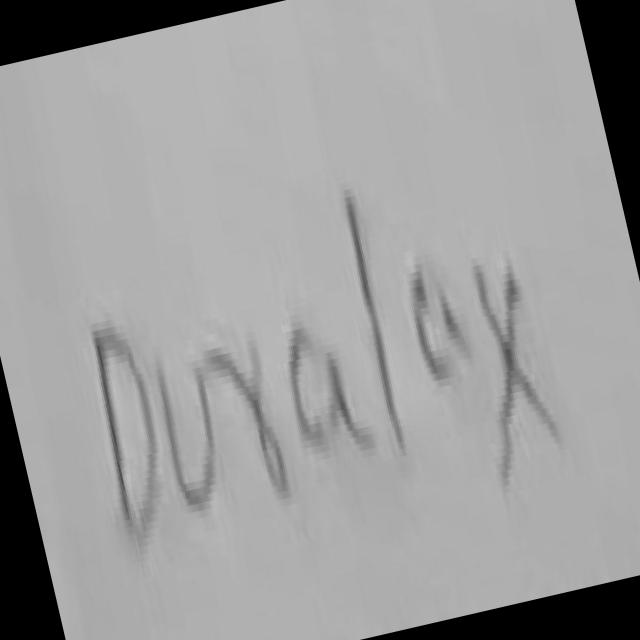D: (94, 327, 160, 534)
a: (292, 327, 375, 459), (412, 264, 470, 380)
l: (351, 196, 405, 444)
r: (205, 328, 293, 510)
u: (159, 368, 216, 509)
x: (476, 265, 561, 480)
